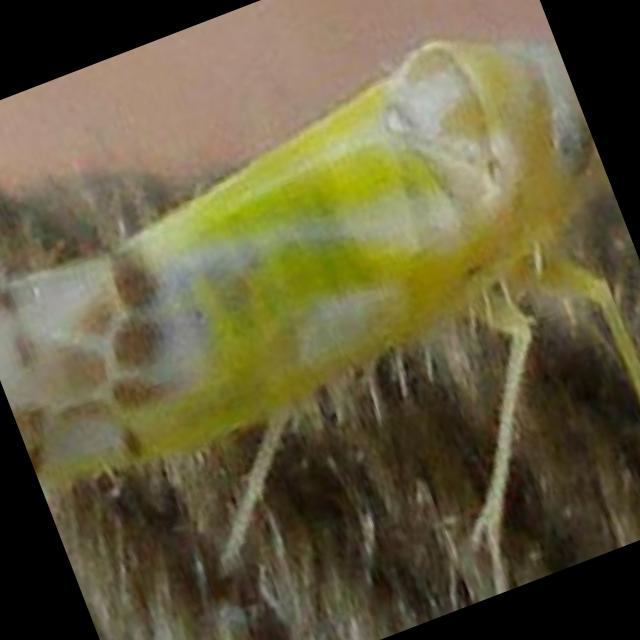green-leafhopper: (0, 1, 640, 506)
